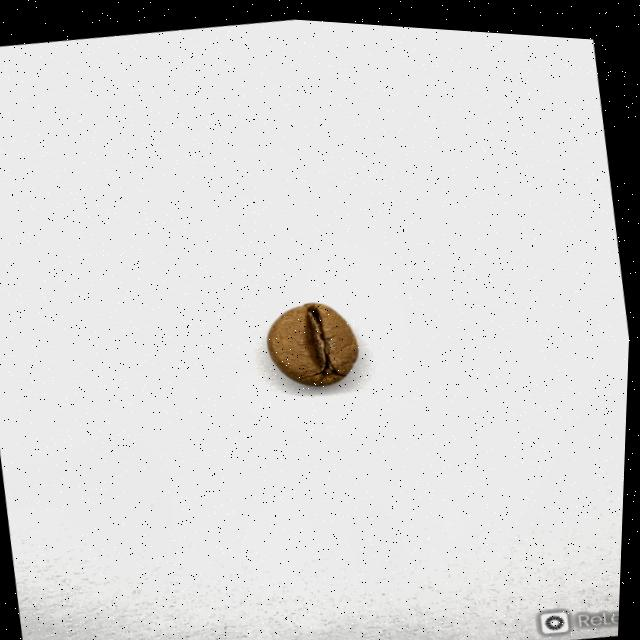Good bean: (264, 293, 366, 387)
